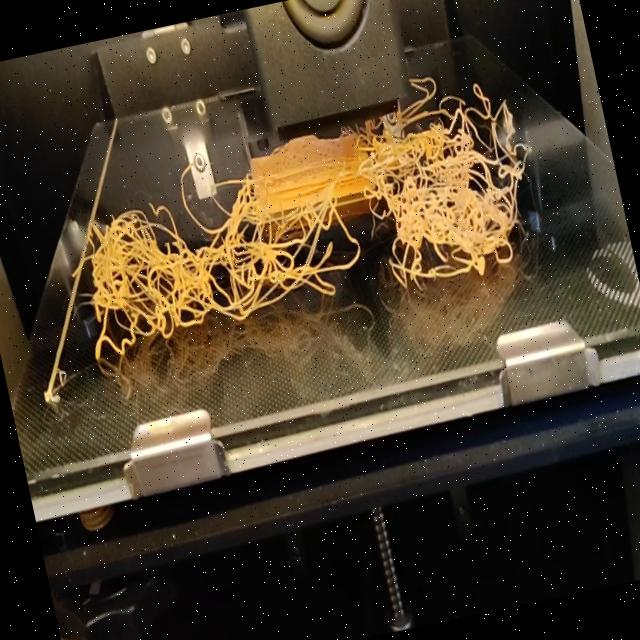spaghetti: (49, 83, 556, 372), (411, 70, 442, 107)
